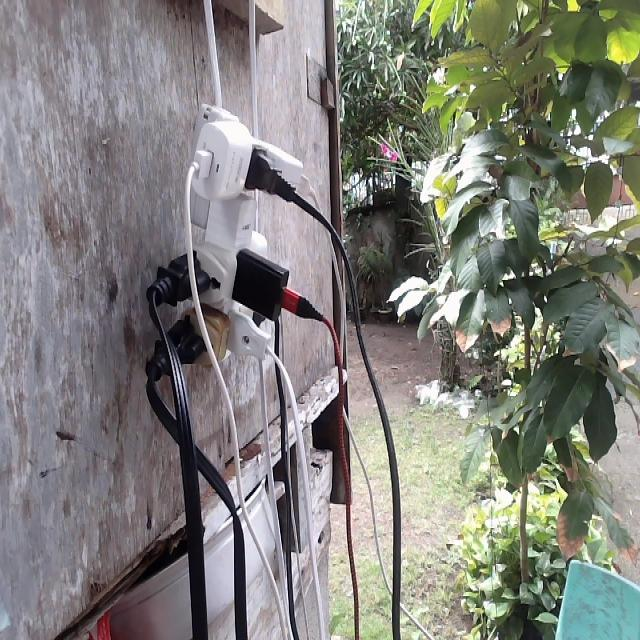-: (145, 101, 316, 380)
